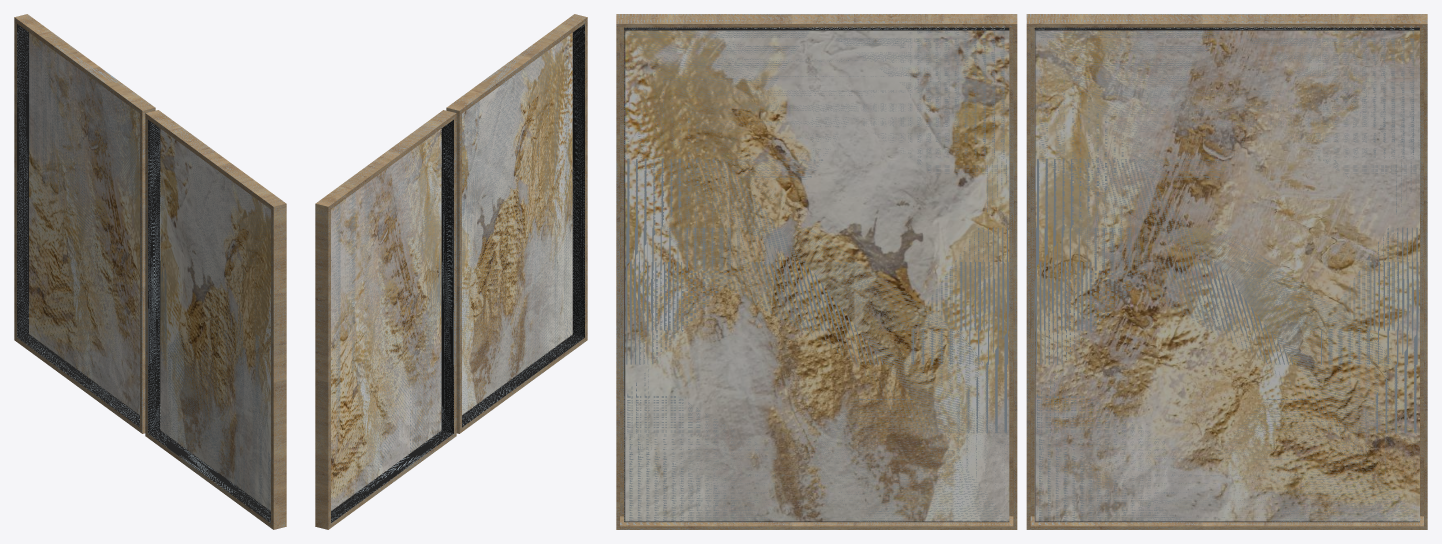
Rendered from art26.dae.
3 views of the same model, side by side, from view 1: azimuth 30°, elevation 25°; view 2: azimuth 150°, elevation 25°; view 3: azimuth 270°, elevation 25° (orthographic). The views are drawn at different scales.
Parts seen in each view (by area): view 1: group_0 (×4), group_1 (×4); view 2: group_1 (×4), group_0 (×4); view 3: group_0 (×4), group_1 (×4).
Part boxes in pixels (x1,y1,x2,y2): group_0 (×4): (145,110,286,529); group_1 (×4): (14,14,155,433); group_1 (×4): (315,110,456,529); group_0 (×4): (446,14,587,433); group_0 (×4): (616,14,1017,529); group_1 (×4): (1026,14,1427,529).
Size of the model in its own units: 1.18 by 40.63 by 27.95.
Materials: 5 (3 with a texture image).
